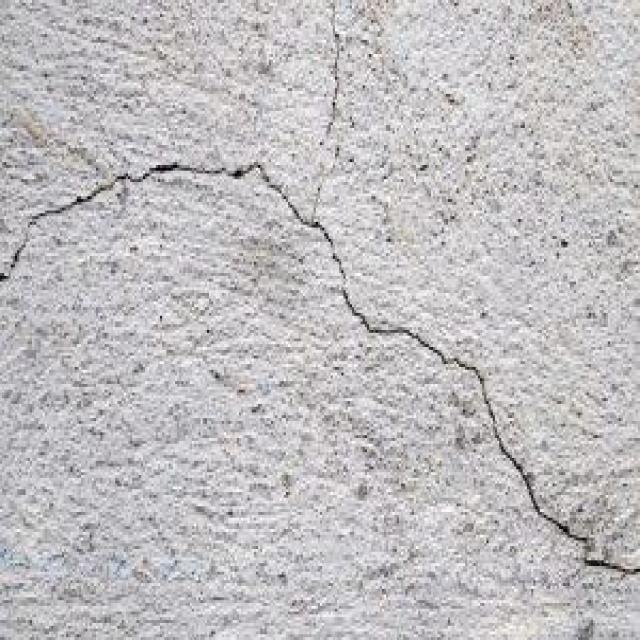crack: (2, 163, 638, 577), (319, 1, 340, 141), (311, 142, 341, 213)
